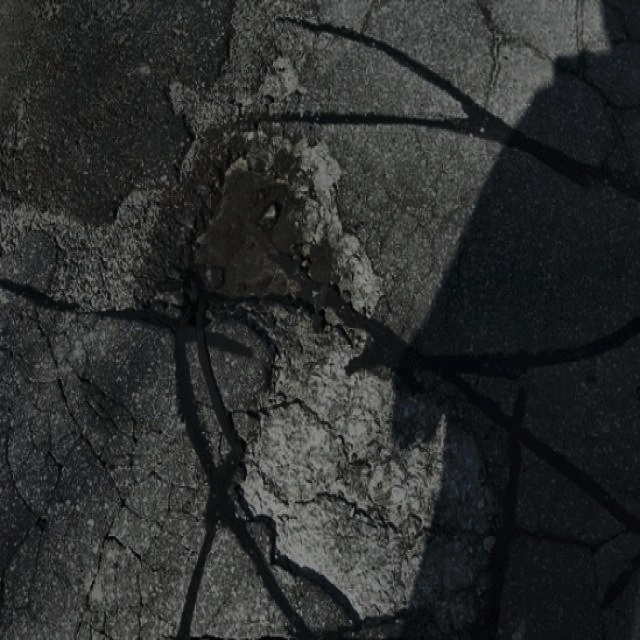Pothole: (225, 331, 510, 637), (161, 142, 331, 302)
